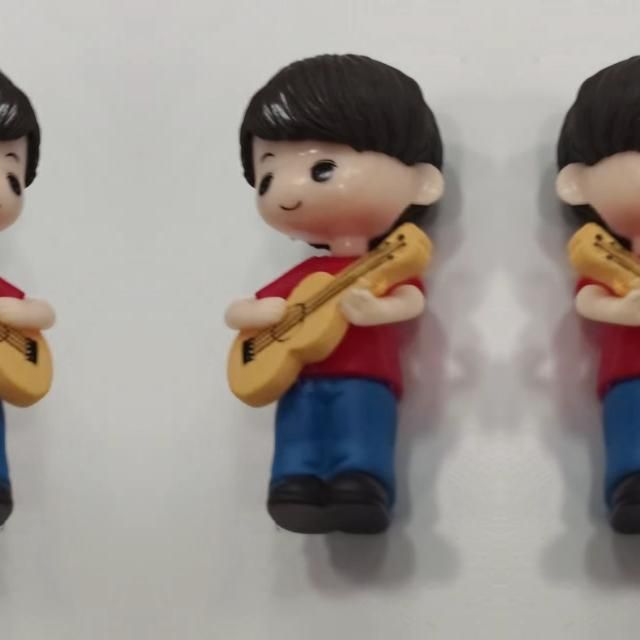man cloth: (256, 252, 422, 386), (578, 251, 640, 386), (0, 251, 24, 386)
man head: (237, 50, 448, 246), (551, 49, 640, 246), (0, 49, 42, 246)
trousers: (264, 372, 406, 532), (593, 372, 640, 531), (0, 372, 16, 531)
